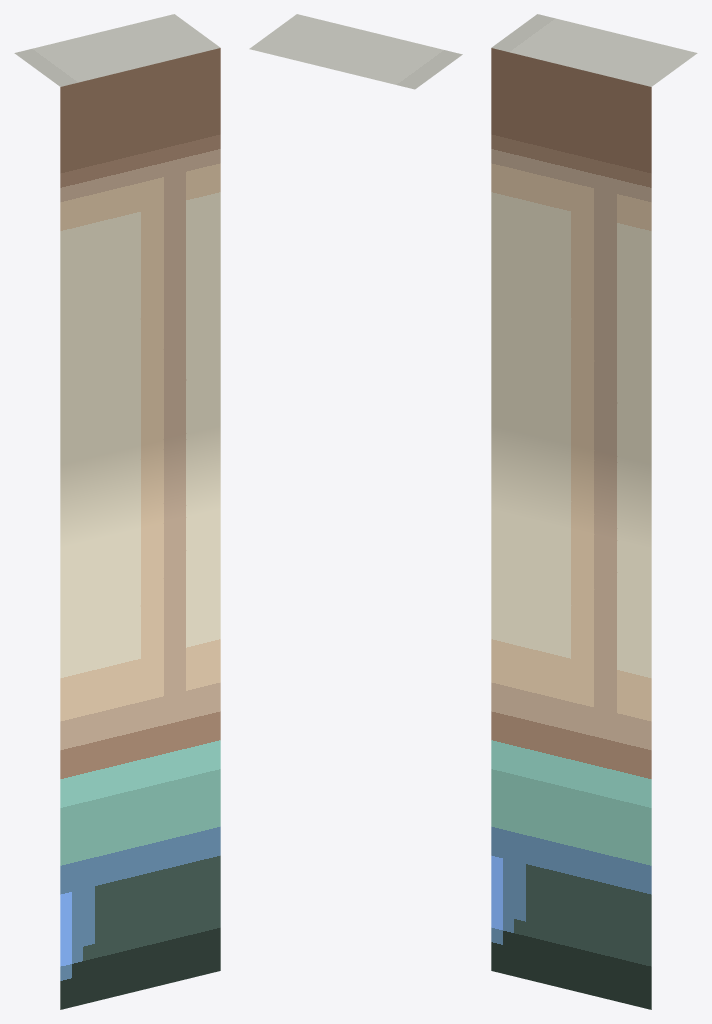
3 views of the same model, side by side, from view 1: azimuth 30°, elevation 25°; view 2: azimuth 150°, elevation 25°; view 3: azimuth 330°, elevation 25° (orthographic). The views are drawn at different scales.
Size of the model in its own units: 1 by 5.5 by 0.5.
Materials: 2 (2 with a texture image).
